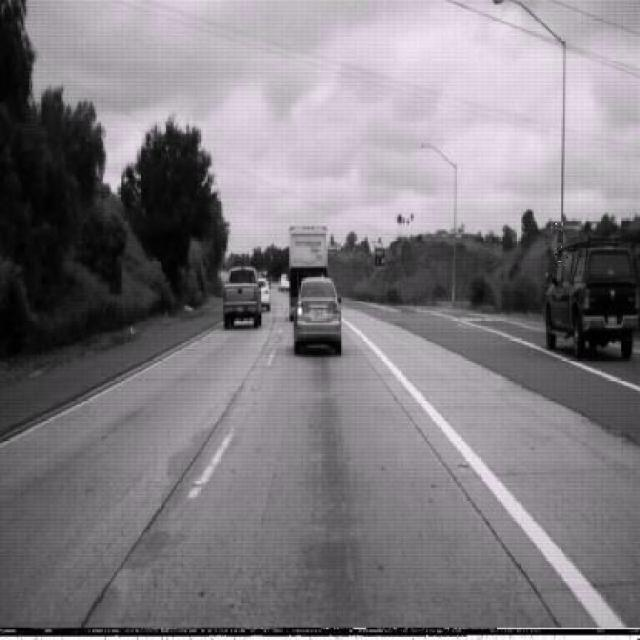signalAhead: (551, 222, 572, 268)
